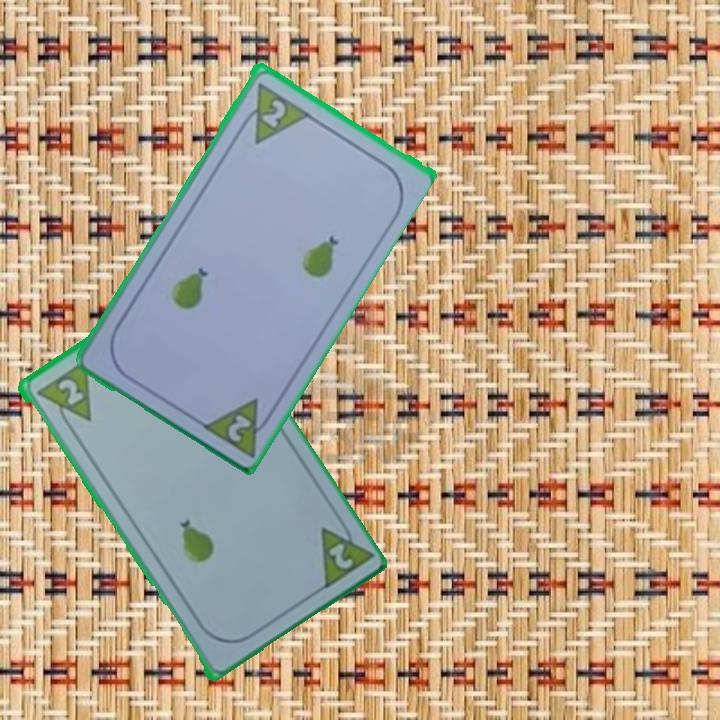2p: (197, 393, 279, 460), (31, 357, 94, 435), (257, 95, 289, 130), (324, 539, 356, 572)
